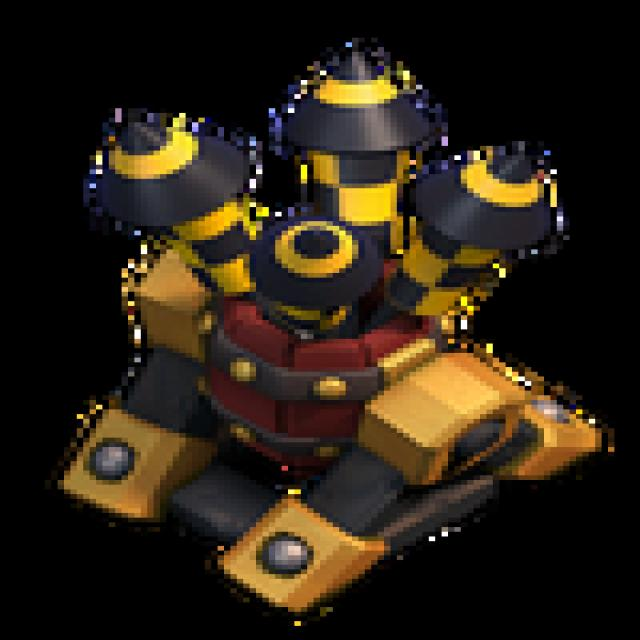air_defense: (21, 25, 623, 626)
